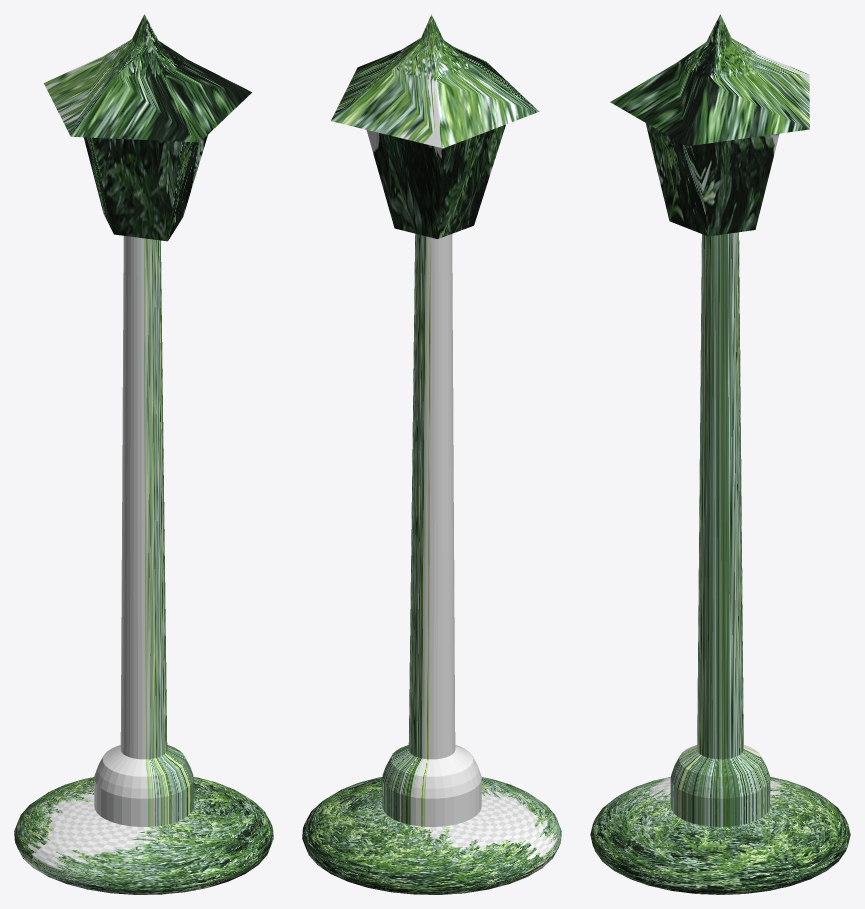
The model's file is Farola.fbx.
3 renders of one model, left to right at view 1: azimuth 30°, elevation 25°; view 2: azimuth 150°, elevation 25°; view 3: azimuth 270°, elevation 25°, orthographic.
Parts seen in each view (by area): view 1: Sphere, Cone.001, Cone; view 2: Sphere, Cone.001, Cone; view 3: Sphere, Cone.001, Cone.
Boxes of the visible parts, bbox=[...] form: Sphere: bbox=[14, 236, 273, 894]; Cone.001: bbox=[43, 14, 251, 142]; Cone: bbox=[83, 135, 207, 241]; Sphere: bbox=[302, 233, 561, 894]; Cone.001: bbox=[331, 14, 539, 148]; Cone: bbox=[366, 124, 505, 238]; Sphere: bbox=[590, 232, 850, 894]; Cone.001: bbox=[610, 14, 809, 146]; Cone: bbox=[645, 123, 779, 236].
Bounding box in the file's own units: 177 × 620 × 177.
